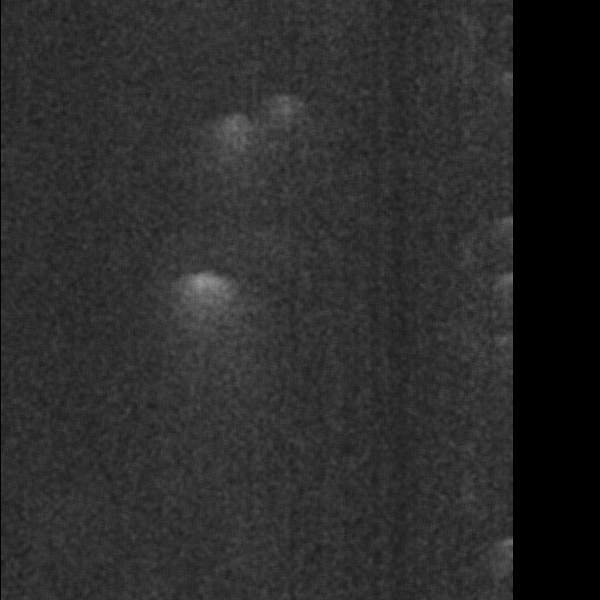spark: (162, 266, 241, 337), (212, 111, 254, 196), (263, 95, 306, 155), (499, 62, 522, 105), (504, 530, 519, 577), (501, 208, 516, 249), (495, 331, 514, 362)
